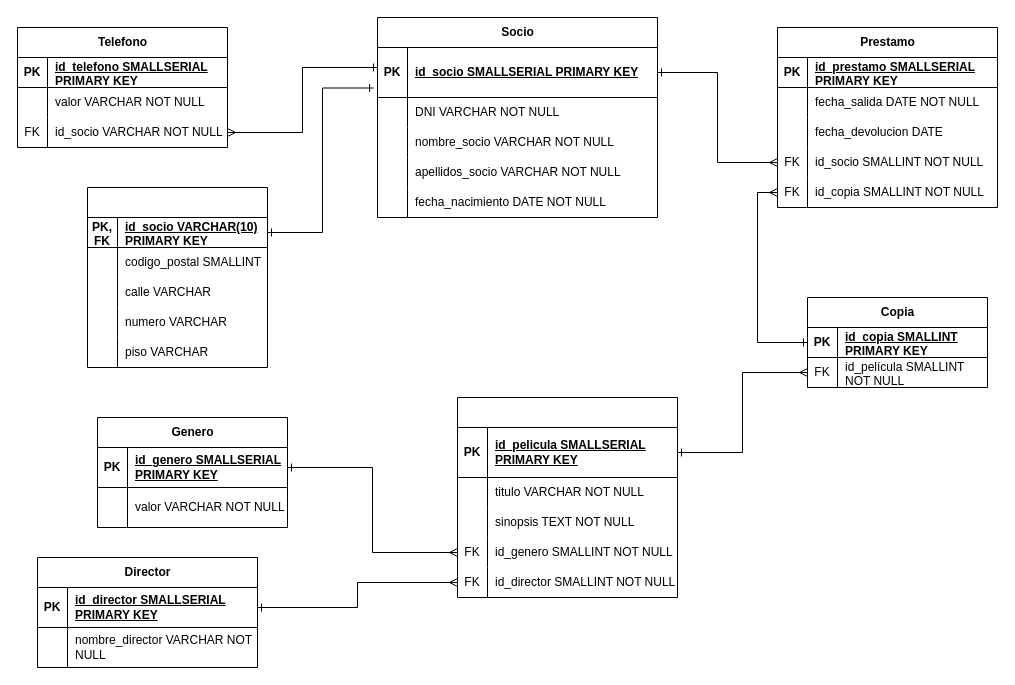
This 1015x685 diagram has some shape labels left out. The shapes that lost their labels are listed below. From the top down, each one's box as (x1, y1, x2, y2) in pixels, then its label:
(86, 186, 268, 368): Direccion
(456, 396, 678, 598): Película
